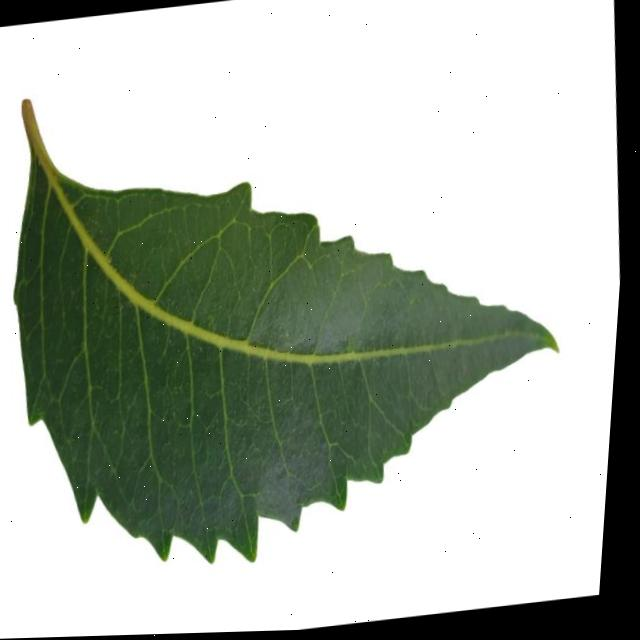Wet: (0, 7, 598, 604)
